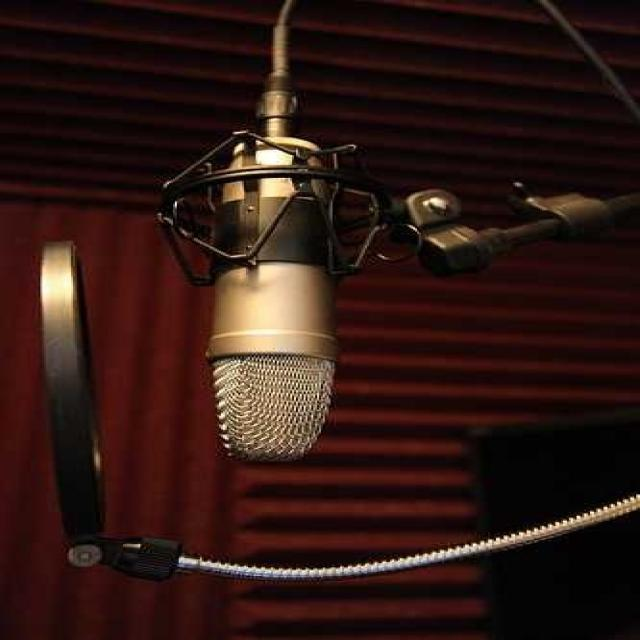microphone: (194, 127, 354, 466)
